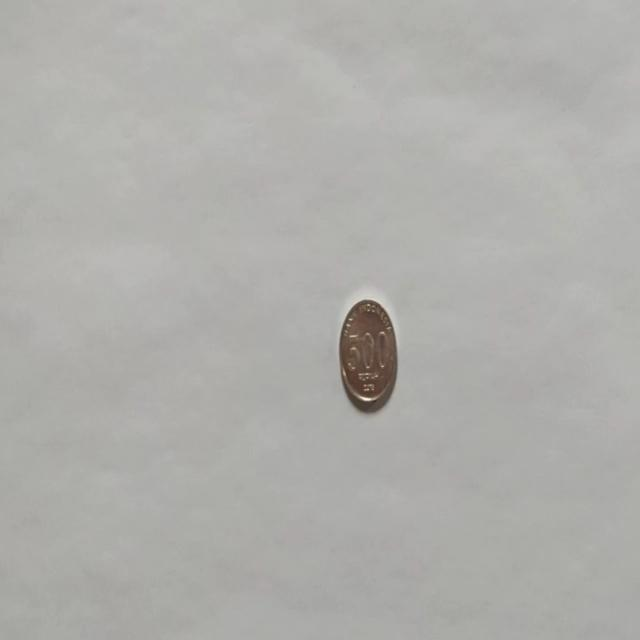lima ratus rupiah: (338, 297, 398, 412)
